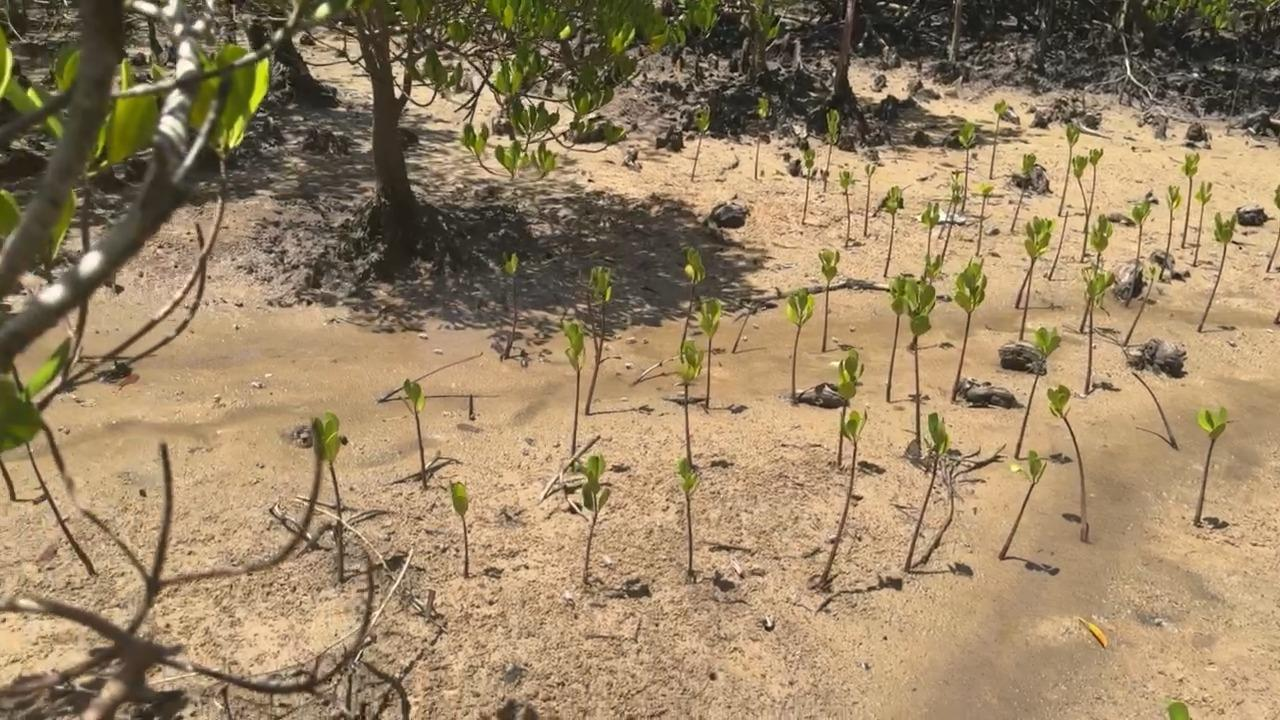Tree: (818, 410, 868, 585), (903, 412, 949, 571), (1014, 324, 1063, 458), (1047, 385, 1088, 540), (310, 411, 345, 581), (905, 278, 937, 450), (999, 450, 1048, 559), (952, 257, 988, 404), (1196, 211, 1239, 331), (1193, 407, 1230, 527), (577, 453, 611, 581), (1019, 218, 1053, 340), (585, 266, 613, 413), (560, 317, 588, 464), (1079, 213, 1114, 330), (1083, 269, 1115, 395), (886, 274, 915, 401), (1131, 374, 1179, 448), (785, 287, 815, 403), (910, 255, 944, 350), (399, 379, 428, 487), (836, 350, 863, 466), (677, 342, 701, 466), (677, 458, 702, 572), (816, 247, 842, 351), (1125, 200, 1151, 303), (1124, 264, 1157, 343), (681, 248, 706, 352), (699, 301, 721, 409), (1008, 154, 1038, 232), (1159, 184, 1182, 279), (448, 479, 470, 578), (500, 251, 519, 359), (1057, 127, 1080, 216), (1179, 152, 1200, 248), (882, 186, 903, 276), (1082, 148, 1105, 229), (1073, 155, 1090, 261), (689, 105, 712, 182), (1192, 182, 1213, 265), (942, 180, 965, 253), (973, 182, 995, 257), (749, 98, 769, 180), (821, 110, 841, 190), (918, 202, 940, 273), (938, 173, 961, 239), (988, 100, 1007, 179), (837, 170, 856, 246), (959, 121, 975, 211), (1266, 184, 1280, 272), (1050, 212, 1068, 280), (732, 302, 753, 354), (1017, 259, 1038, 310), (801, 148, 815, 222), (862, 164, 876, 234), (1164, 702, 1192, 720)
